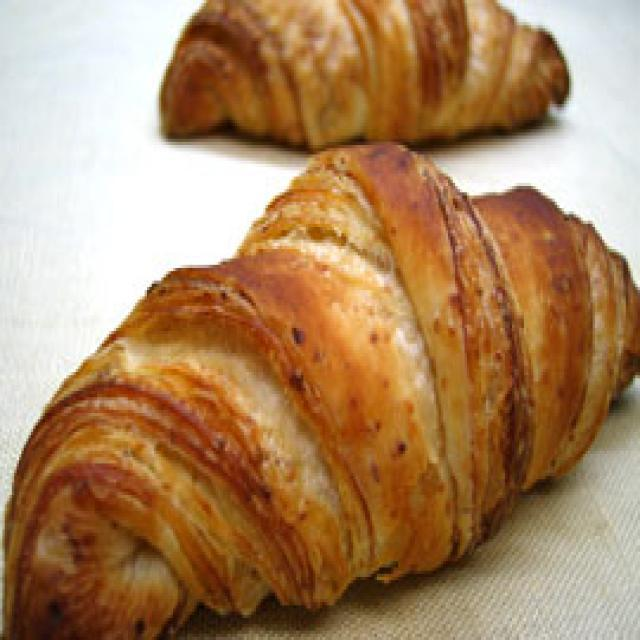Croissant: (0, 145, 640, 640)
